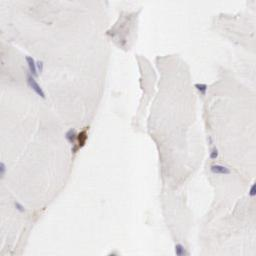nucleus: (28, 78, 44, 96), (211, 164, 233, 174), (26, 56, 36, 76), (194, 82, 207, 93), (66, 129, 76, 142), (208, 148, 218, 158), (175, 243, 184, 254), (1, 161, 7, 176), (15, 201, 23, 211), (250, 182, 256, 195), (37, 60, 43, 73)
positive_cell: (65, 128, 89, 148)
